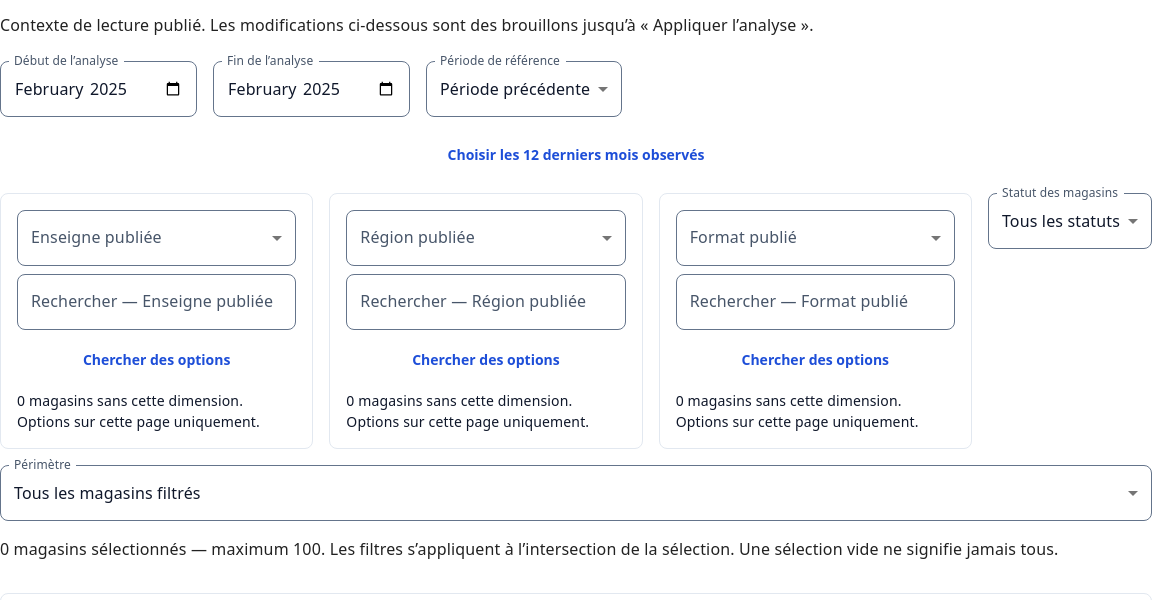
Test: rejects an empty explicit selection and keeps errors local
The width and height of the screenshot is (1152, 600).
What coordinates should you click on to do the following:
click the dropdown named "Périmètre"
I would click on:
 (107, 492)
Its box is [14,482,201,504].
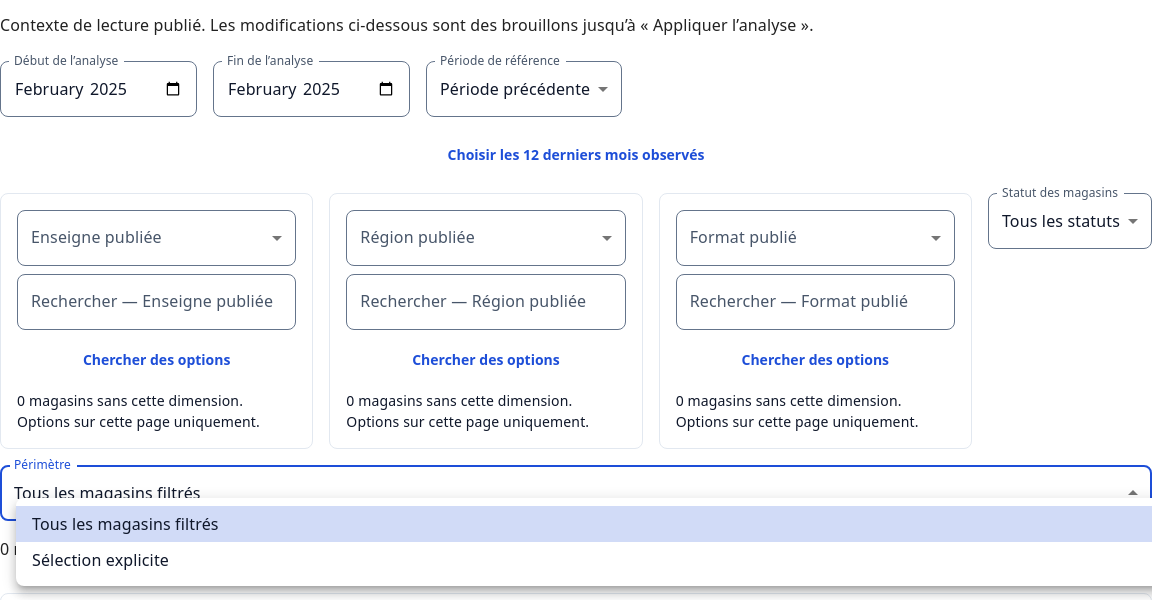
What coordinates should you click on to do the following:
click the option "Sélection explicite"
I would click on:
 (100, 560)
Its box is [32,549,169,571].
(page scrolled)
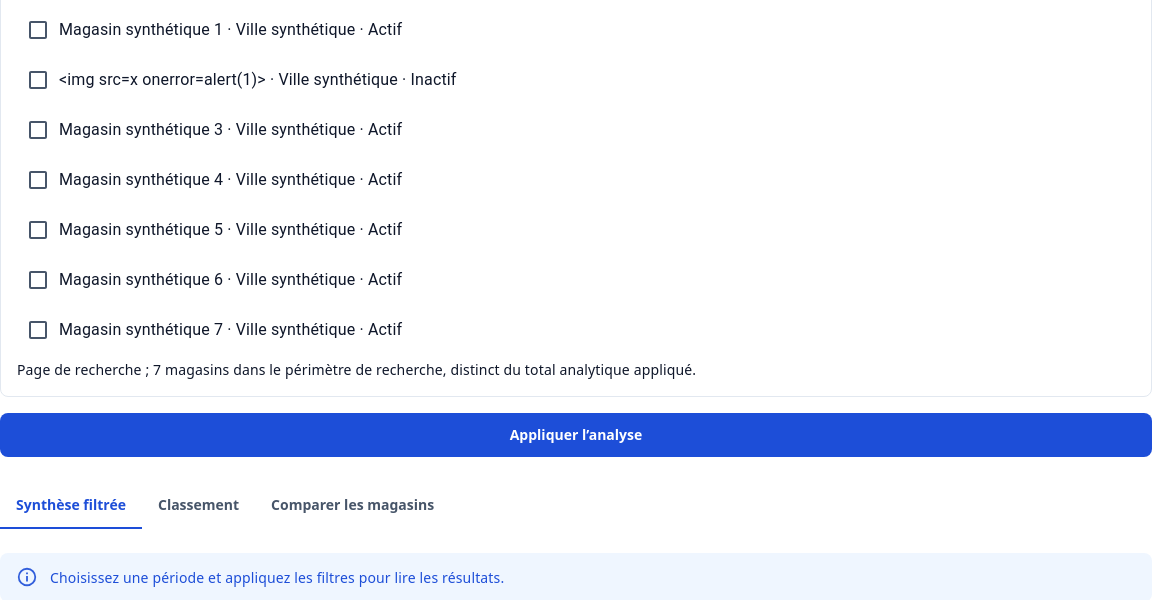
What coordinates should you click on to do the following:
click the button "Appliquer l’analyse"
I would click on:
 (576, 435)
Its box is [0,413,1151,457].
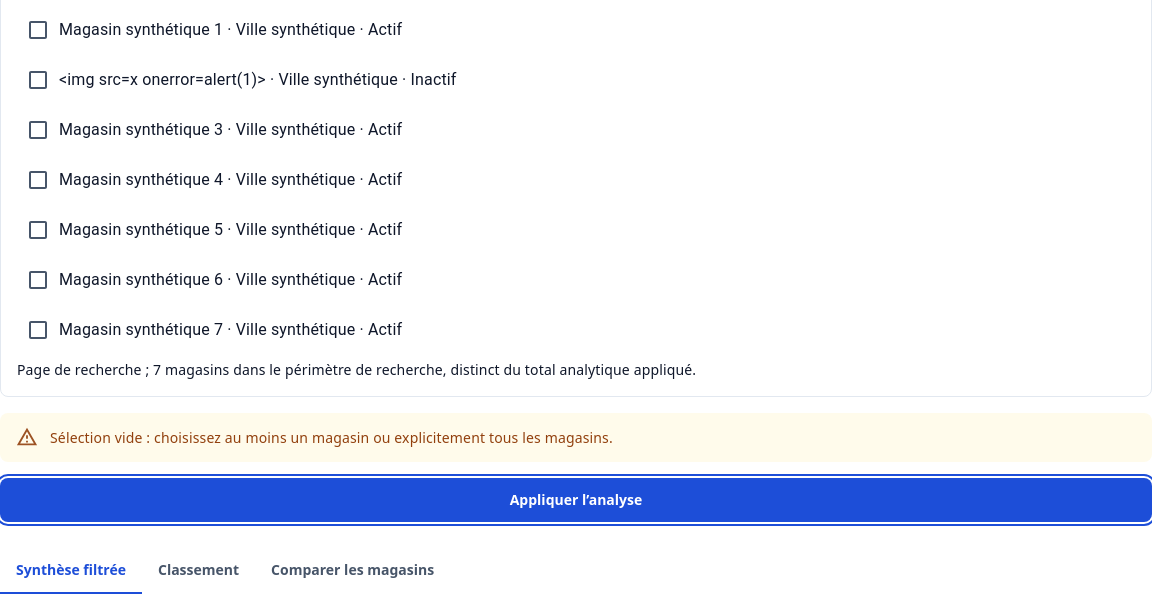
Now the text "Sélection vide" is shown, box [50,428,613,447]
What coordinates should you click on to do the following:
click the checkbox named "Sélectionner Magasin synthétique 1"
I would click on:
 (214, 30)
Its box is [26,18,402,42].
(page scrolled)
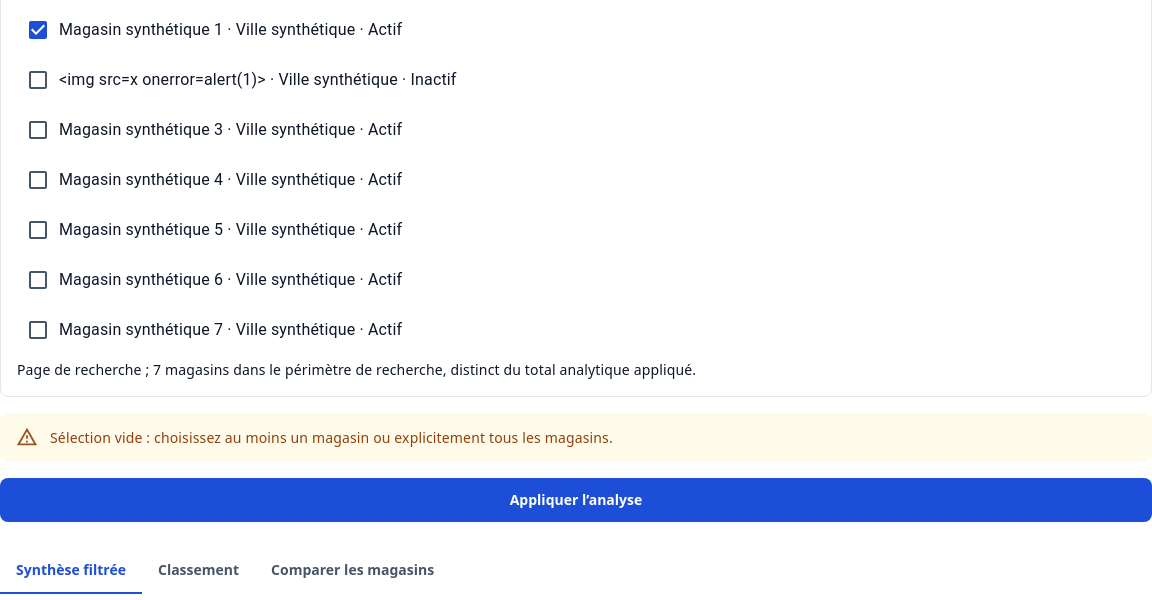
What coordinates should you click on to do the following:
click the button "Appliquer l’analyse"
I would click on:
 (576, 500)
Its box is [0,478,1151,522].
(page scrolled)
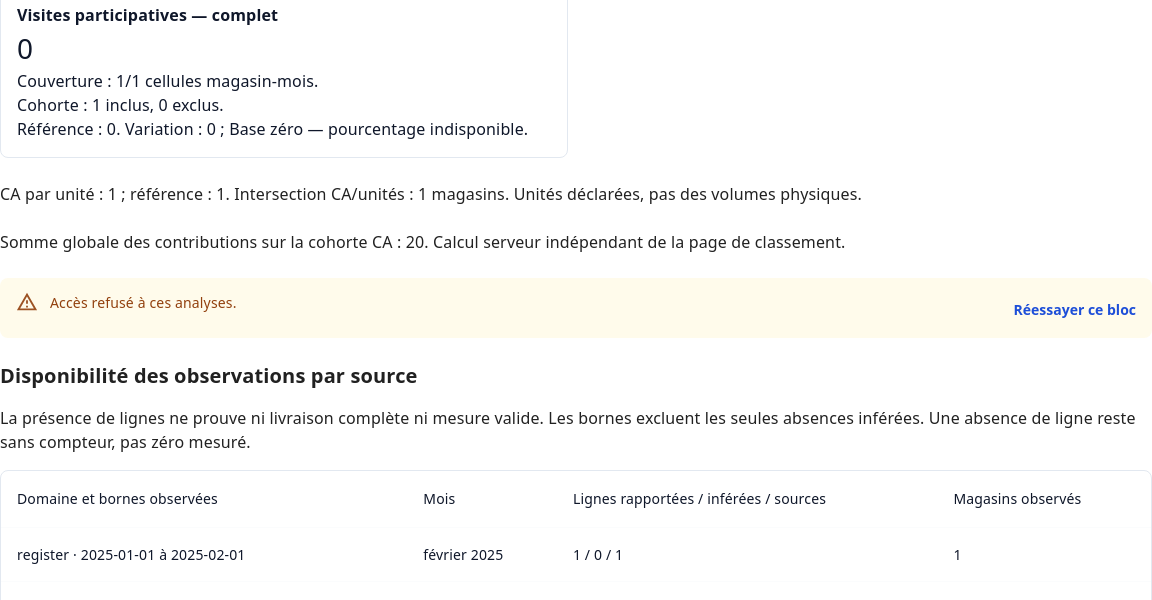
Now the text "Accès refusé à ces analyses." is shown, box [50,293,237,312]
Now the text "Somme globale" is shown, box [0,231,401,253]
